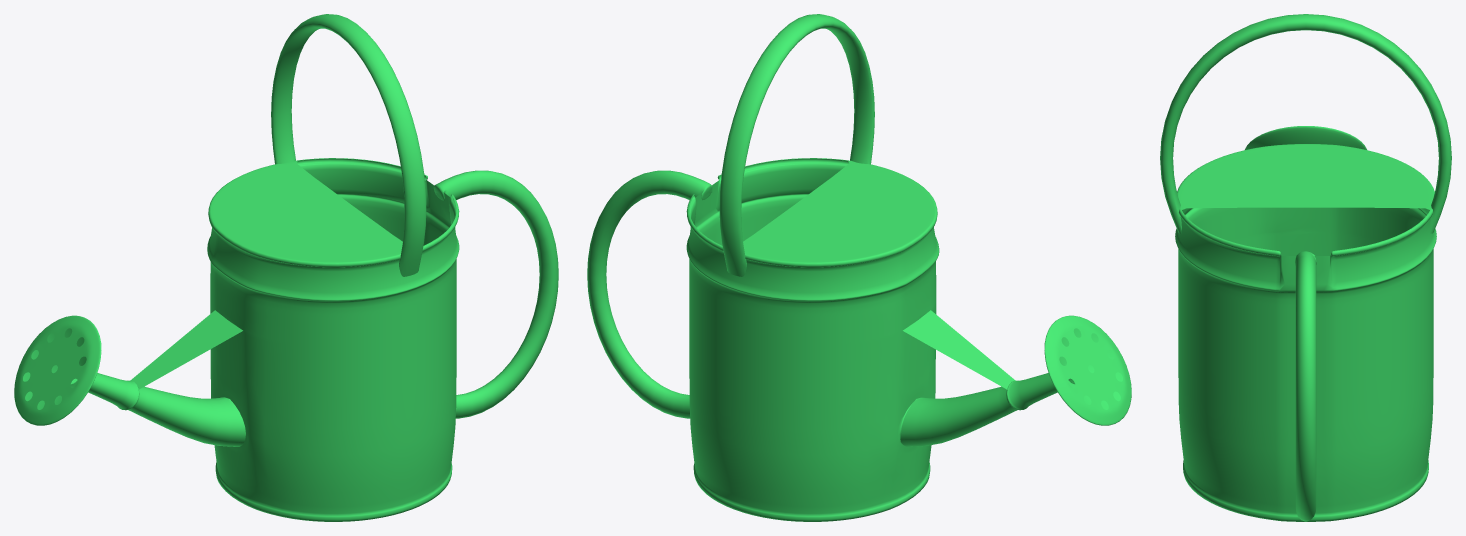
The model's file is watering_can.glb.
3 views of the same model, side by side, from view 1: azimuth 30°, elevation 25°; view 2: azimuth 150°, elevation 25°; view 3: azimuth 270°, elevation 25° (orthographic). The views are drawn at different scales.
Visible parts, largest first — view 1: part1 _0, part3_2, part 2_1, part4_3; view 2: part1 _0, part3_2, part 2_1, part4_3; view 3: part1 _0, part3_2.
Part boxes in pixels (<box>): part1 _0: <box>207,14,558,521</box>; part3_2: <box>14,315,101,425</box>; part 2_1: <box>71,373,245,446</box>; part4_3: <box>130,310,242,389</box>; part1 _0: <box>587,14,939,521</box>; part3_2: <box>1044,315,1131,425</box>; part 2_1: <box>900,373,1074,446</box>; part4_3: <box>903,310,1015,389</box>; part1 _0: <box>1160,14,1451,521</box>; part3_2: <box>1245,126,1366,149</box>.
Bounding box in the file's own units: 6.39 × 5.12 × 2.93.
